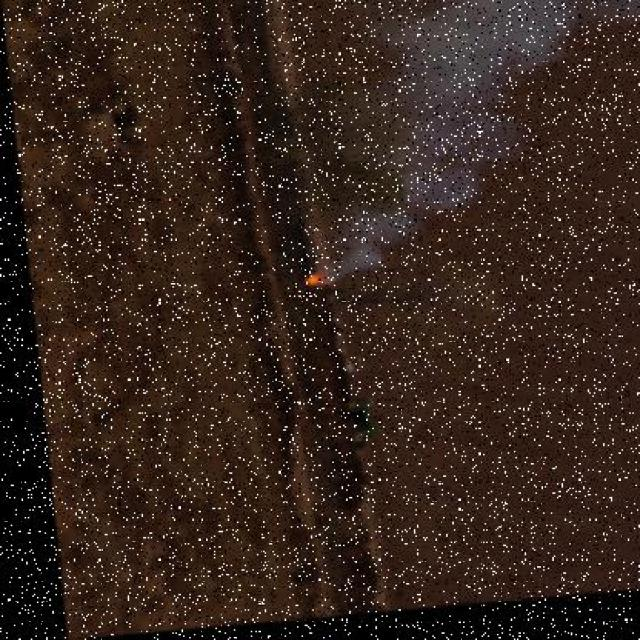fire: (298, 269, 330, 290)
